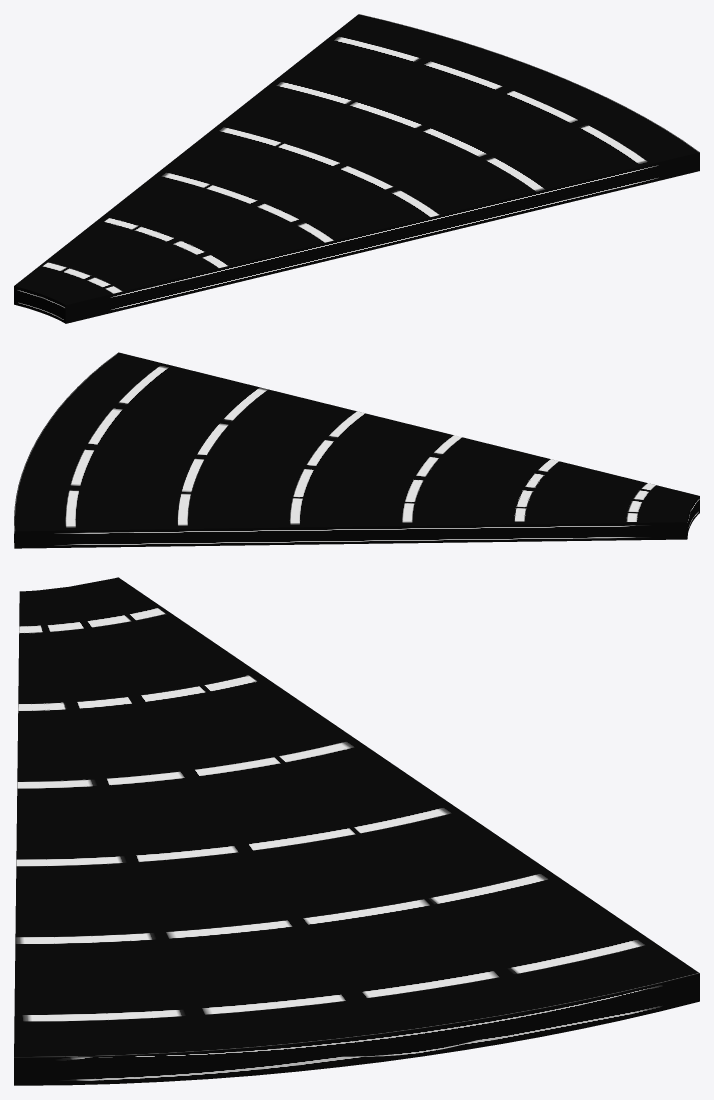
3 renders of one model, top to bottom at view 1: azimuth 30°, elevation 25°; view 2: azimuth 150°, elevation 25°; view 3: azimuth 270°, elevation 25°, orthographic. The views are drawn at different scales.
Visible parts, largest first — view 1: Road01; view 2: Road01; view 3: Road01.
Part boxes in pixels (bbox=[...]): Road01: bbox=[14, 14, 699, 323]; Road01: bbox=[14, 352, 699, 548]; Road01: bbox=[14, 577, 699, 1085].
Bounding box in the file's own units: 731 × 20 × 441.
